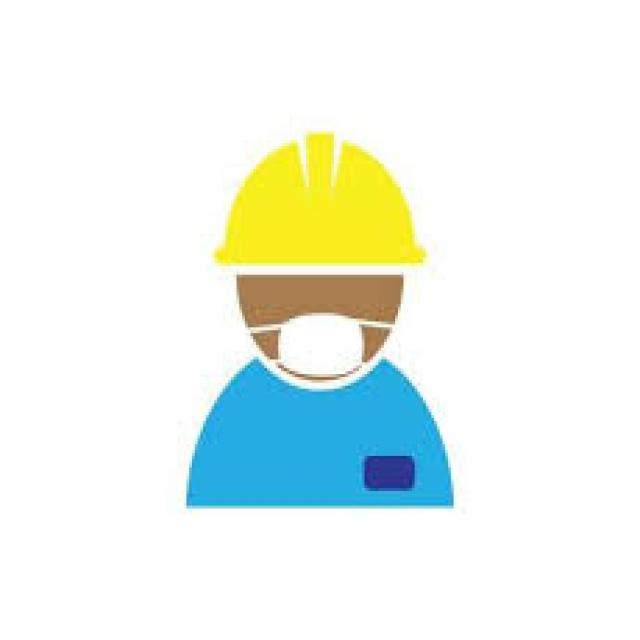Safety-Helmet: (209, 128, 431, 280)
